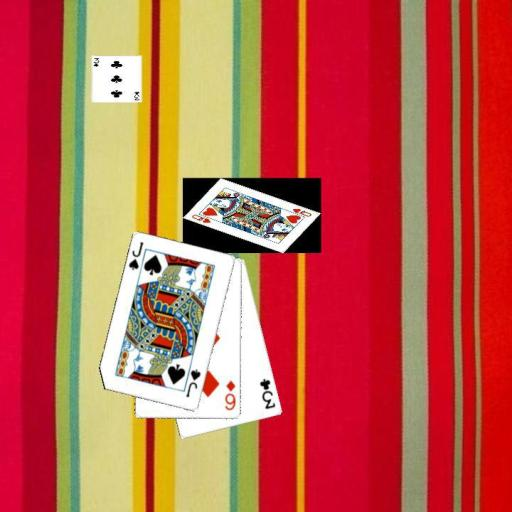3C: (257, 375, 277, 411)
6D: (222, 378, 237, 412)
JS: (183, 366, 202, 399), (126, 239, 145, 272)
